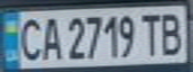1: (103, 11, 121, 58)
2: (63, 12, 84, 61)
7: (84, 12, 103, 60)
9: (115, 11, 139, 58)
A: (36, 14, 63, 61)
B: (157, 9, 187, 56)
C: (12, 15, 45, 62)
T: (136, 10, 163, 56)
